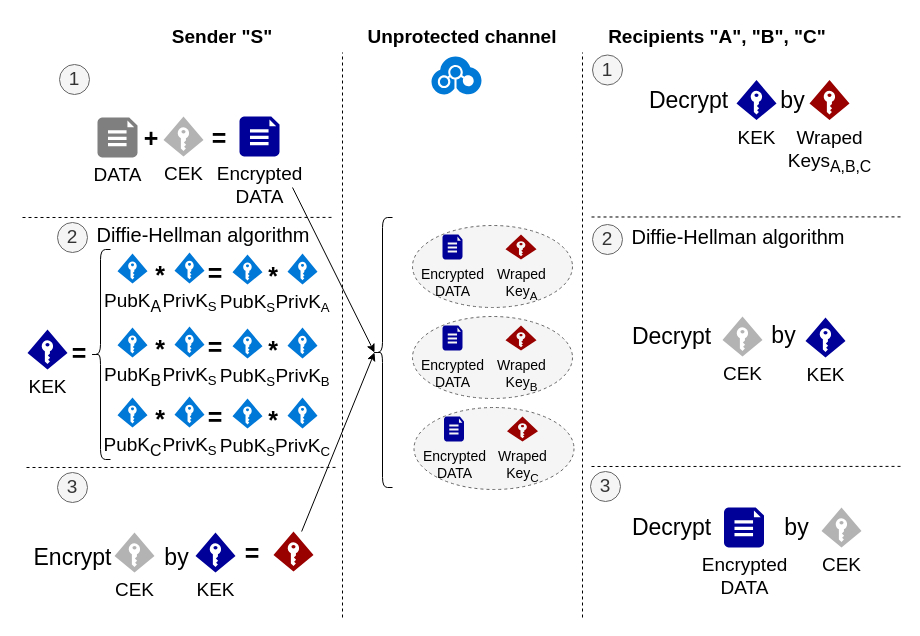
The diagram is 920 pixels wide and 636 high, and some of its shapes have lost their labels. Here are the shapes that lost their labels. From the top down, the centre of each, then its label:
the point at 456,75: Blockchain
the point at 293,551: WrapedKey
